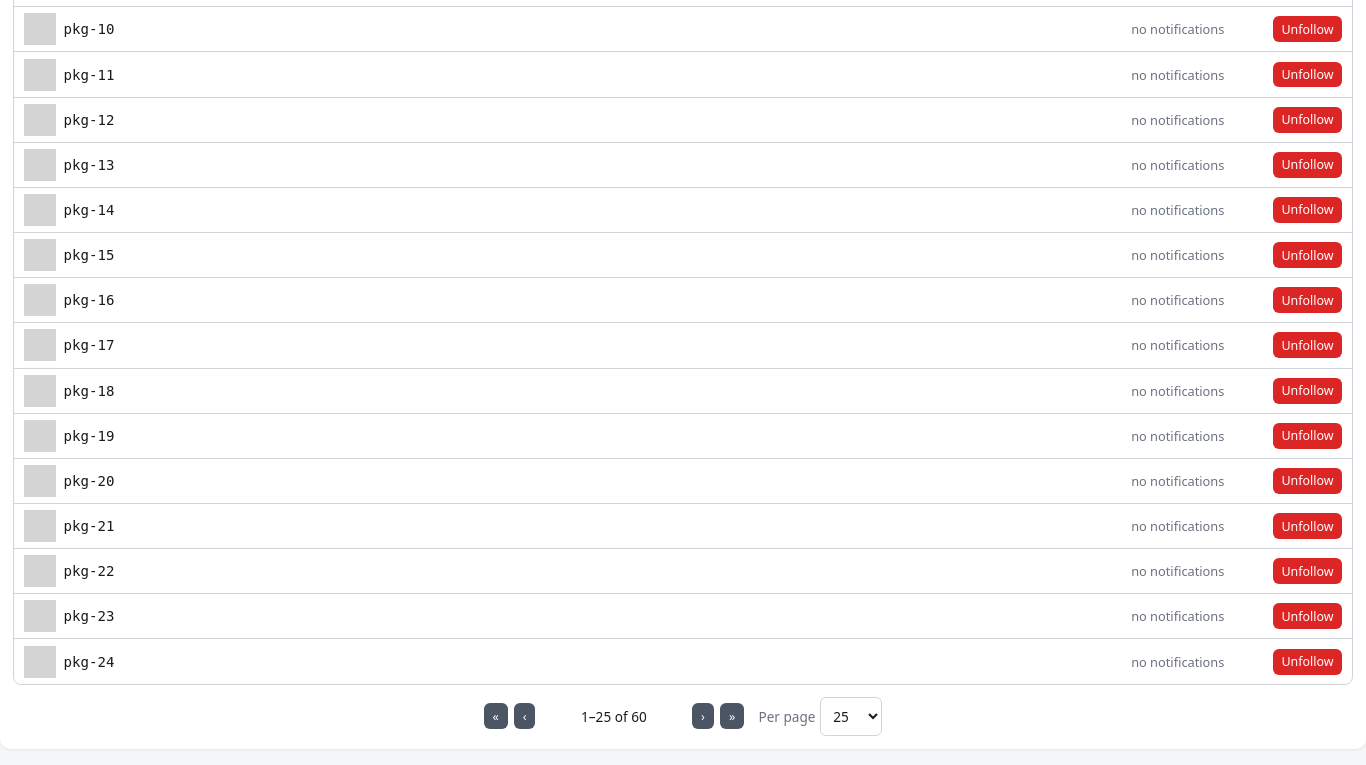
Test: DashboardComponent › pagination › shows 25 artifacts per page and moves between pages
The width and height of the screenshot is (1366, 765).
(page scrolled)
Click the button "›" at (703,716), box [692,703,714,729]
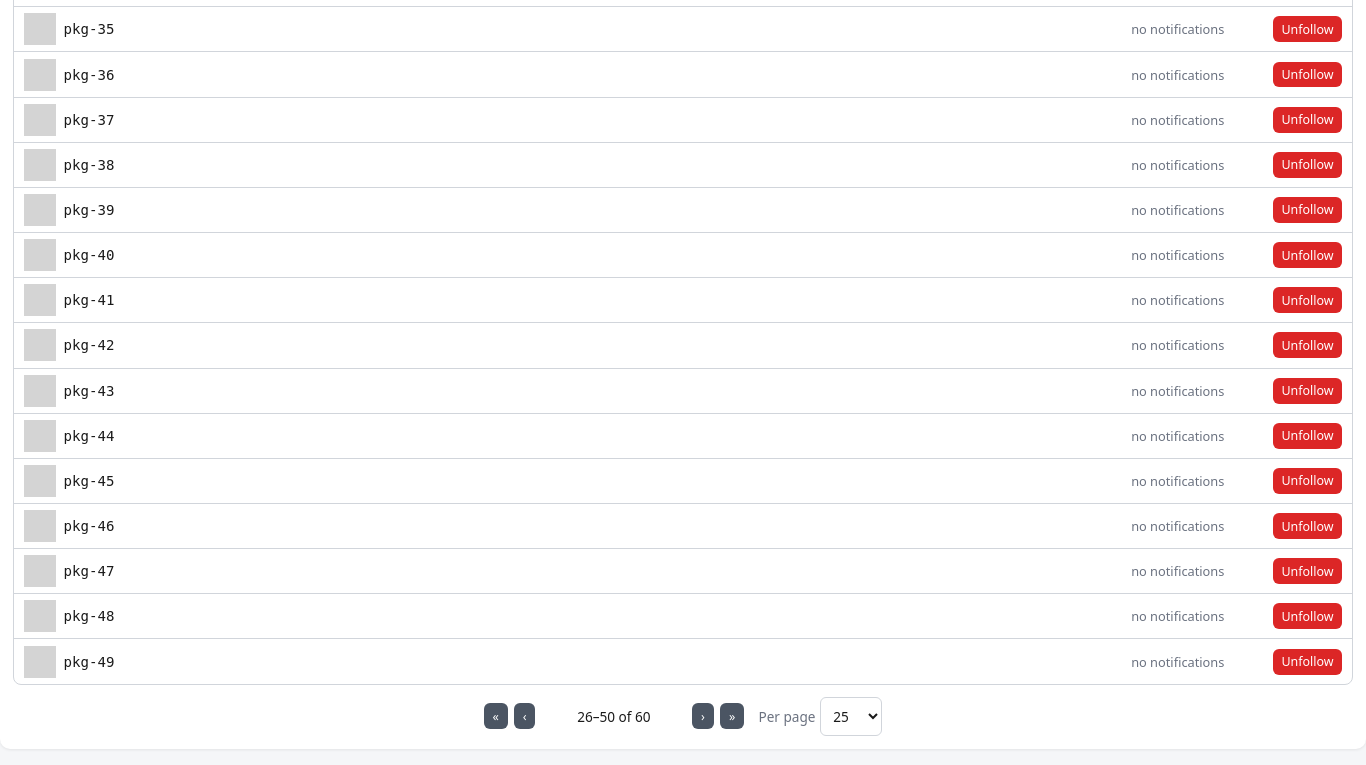
Expected: the text with class "range" reads "26–50 of 60", [577,707,651,726]
Click the button "»" at (732,716), box [720,703,744,729]
(page scrolled)
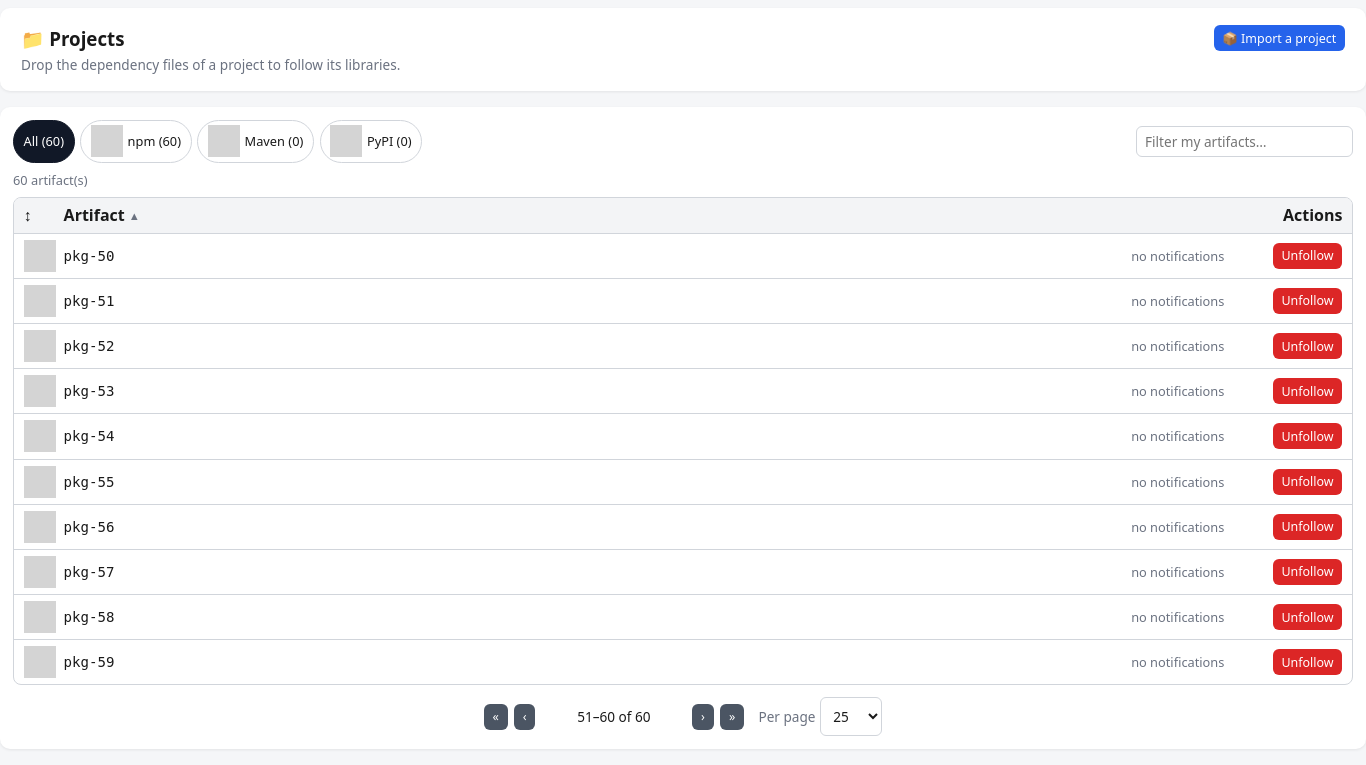
Expected: the text with class "range" reads "51–60 of 60", [577,707,651,726]
Click the button "«" at (496,717), box [484,704,508,730]
(page scrolled)
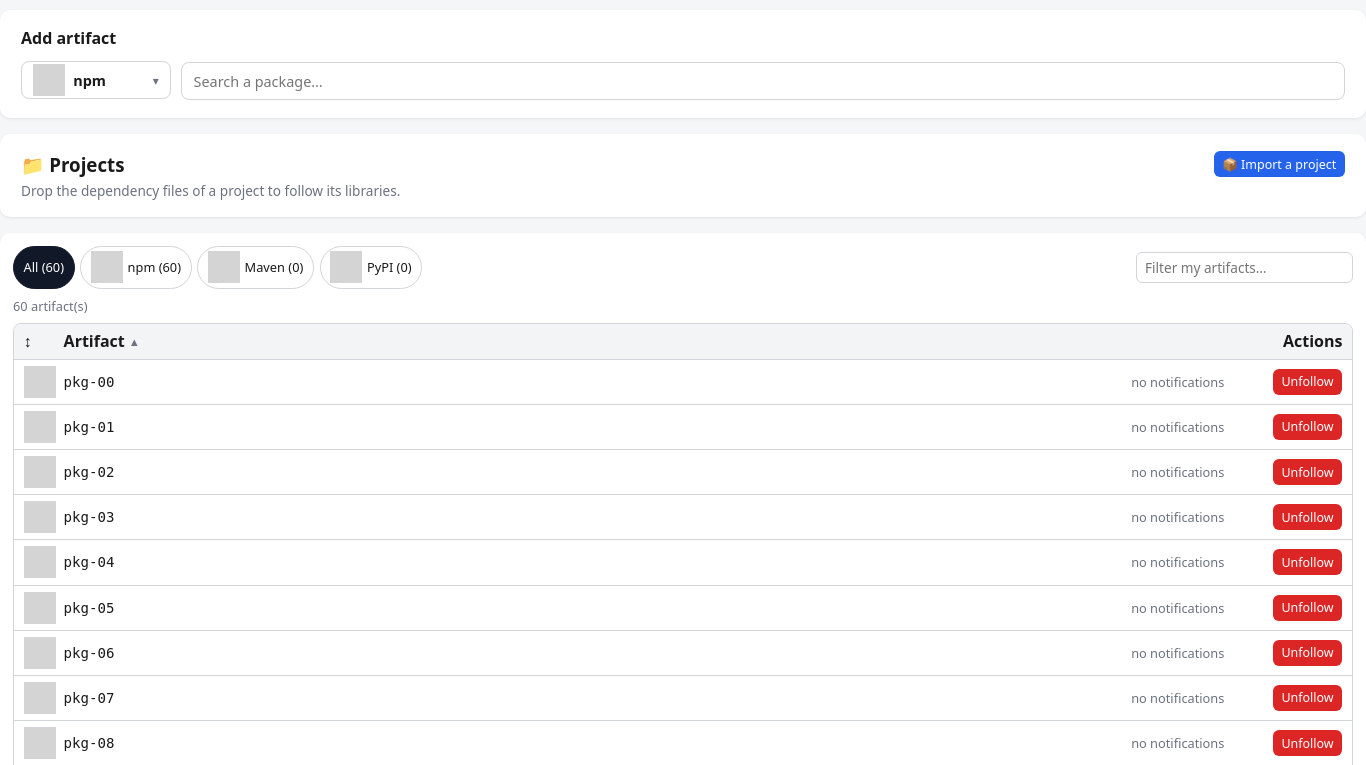
Expected: the text with class "coords-cell" reads "pkg-00", [64,374,114,390]
